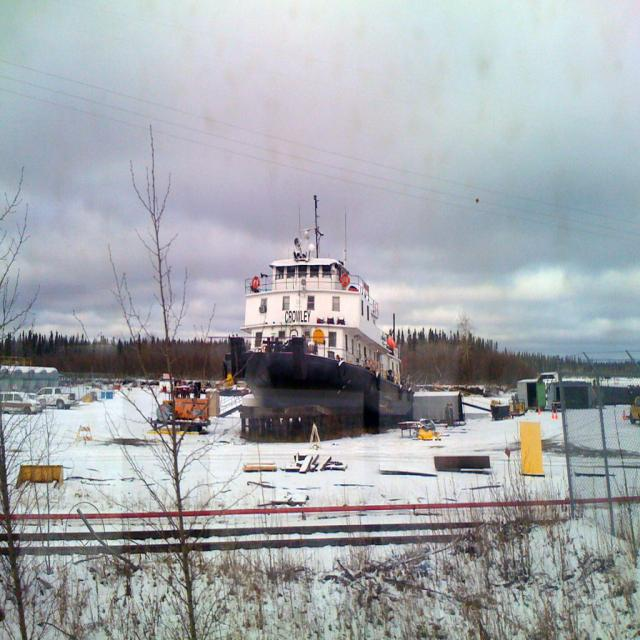Boat: (208, 194, 420, 407)
